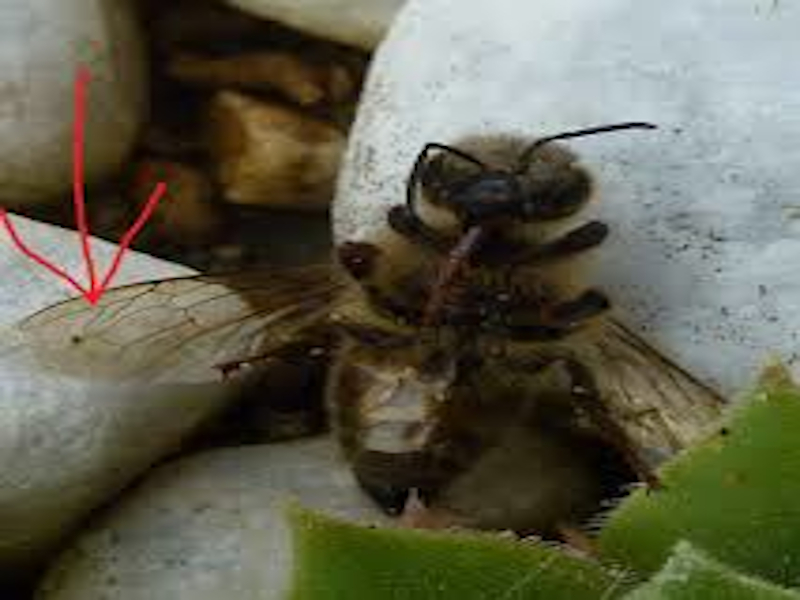abeja: (74, 93, 721, 527)
